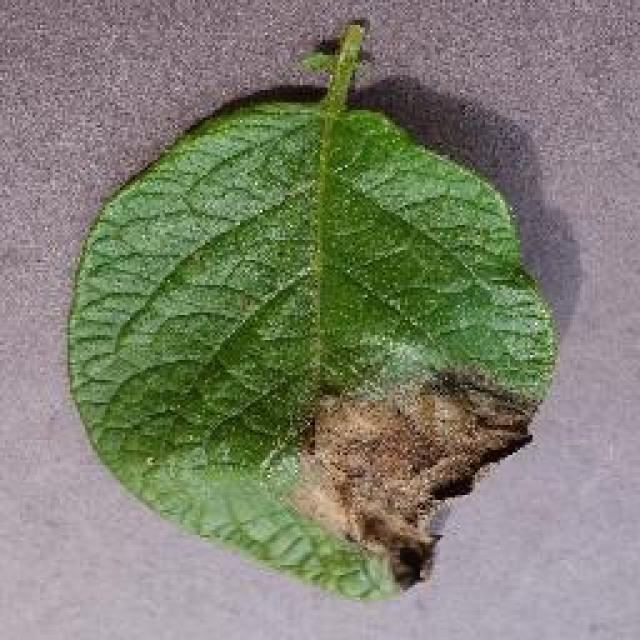Late_blight: (243, 314, 552, 596)
